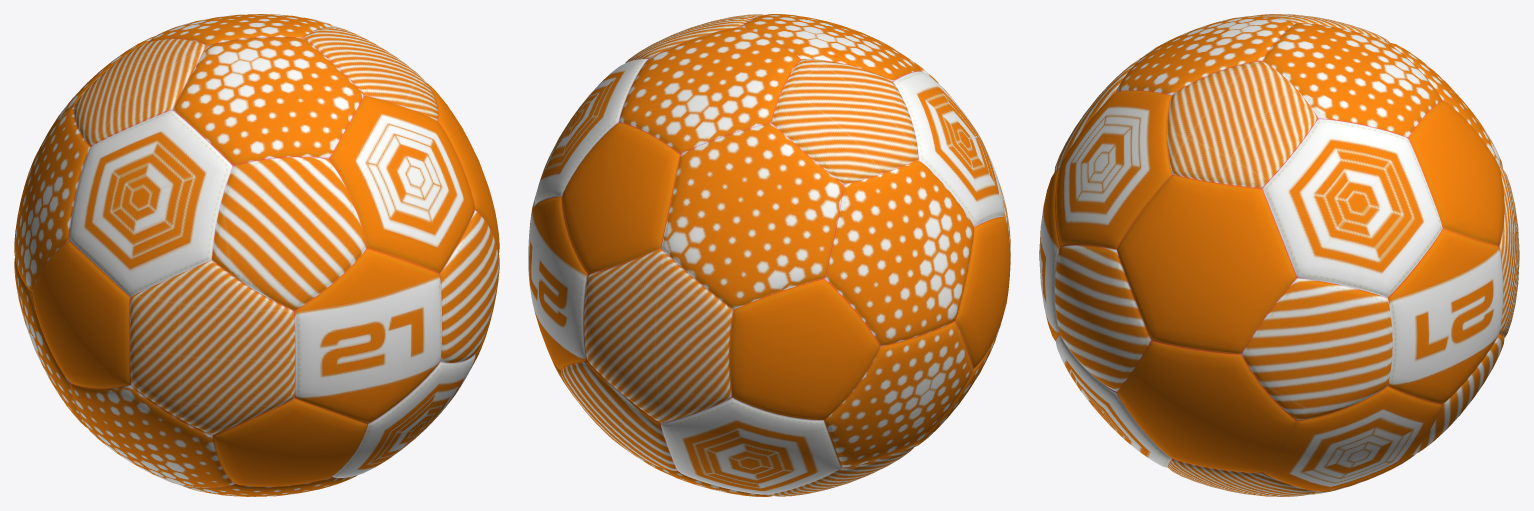
The model's file is Ball-4b.glb.
The picture shows the model from 3 angles, left to right: view 1: azimuth 30°, elevation 25°; view 2: azimuth 150°, elevation 25°; view 3: azimuth 270°, elevation 25°; orthographic projection.
Visible parts, largest first — view 1: Ball.001; view 2: Ball.001; view 3: Ball.001.
Part boxes in pixels (left/top/right/bottom): Ball.001: left=14, top=14, right=499, bottom=496; Ball.001: left=528, top=14, right=1010, bottom=496; Ball.001: left=1039, top=14, right=1519, bottom=496.
Bounding box in the file's own units: 1.56 × 1.55 × 1.55.
Materials: 1 (1 with a texture image).
